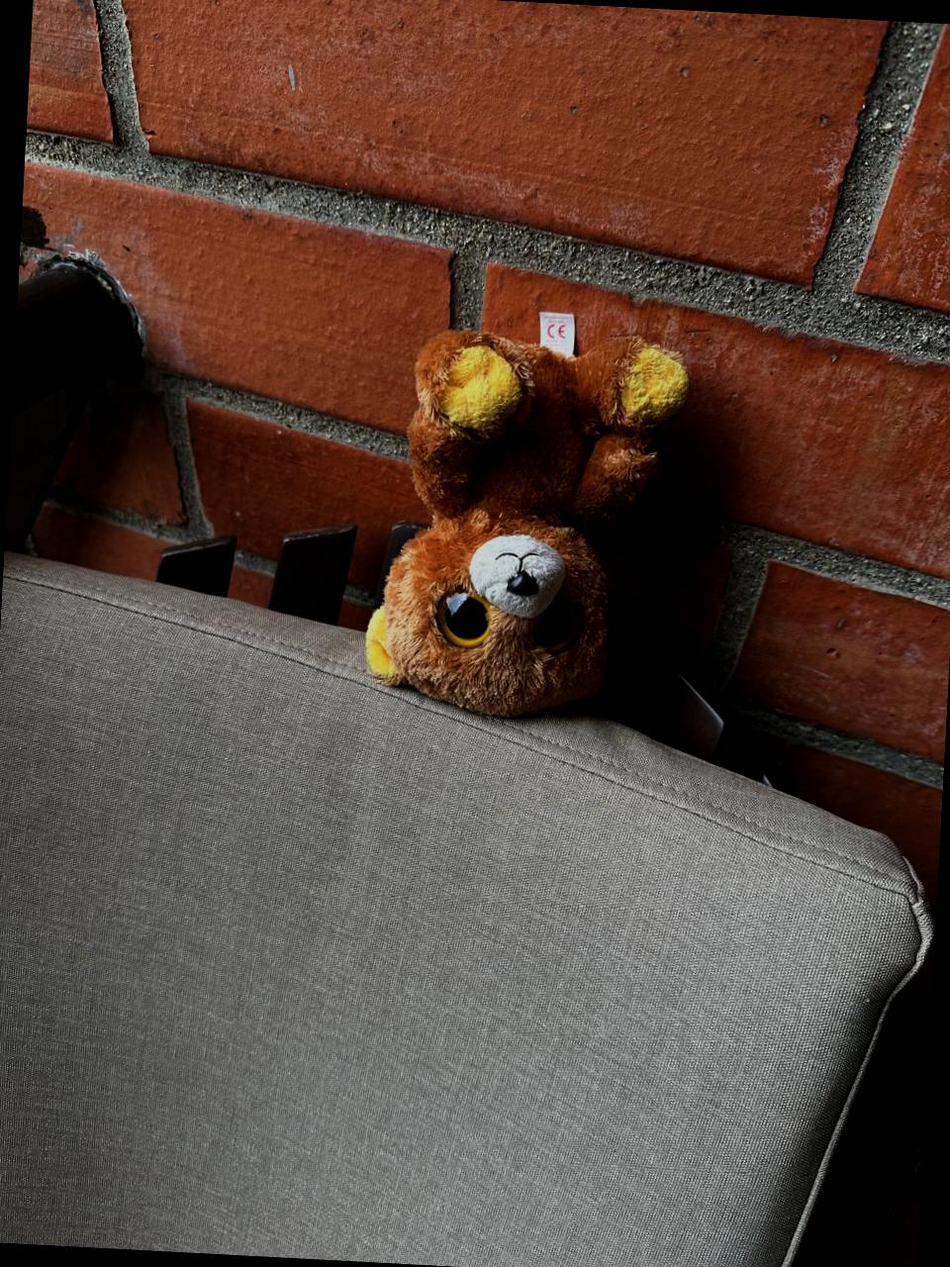peluche_sebastian: (347, 318, 704, 731)
